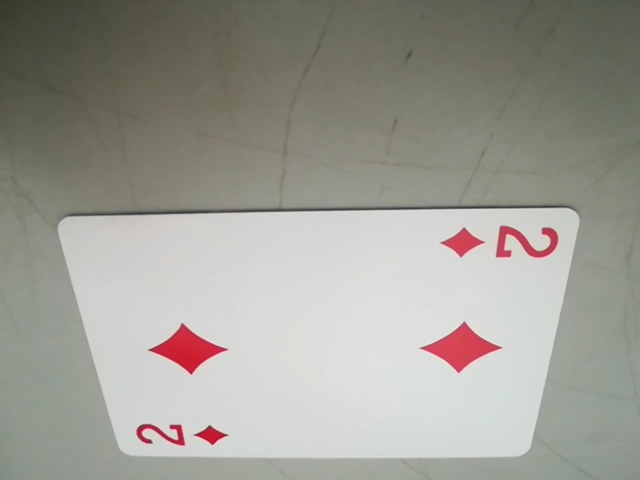fk 2: (439, 218, 564, 268), (128, 413, 231, 458)
